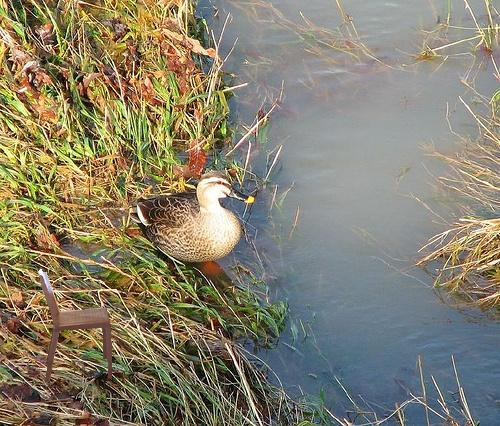tampered: (39, 270, 112, 382)
